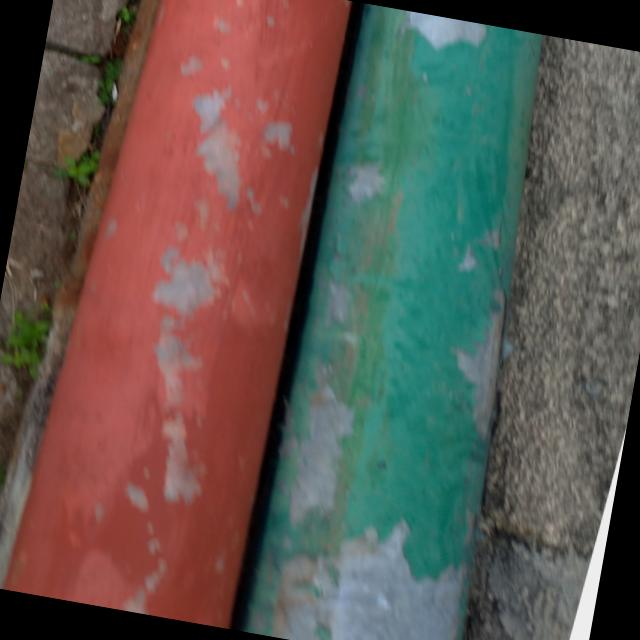gas: (0, 0, 347, 630), (244, 1, 564, 640)
